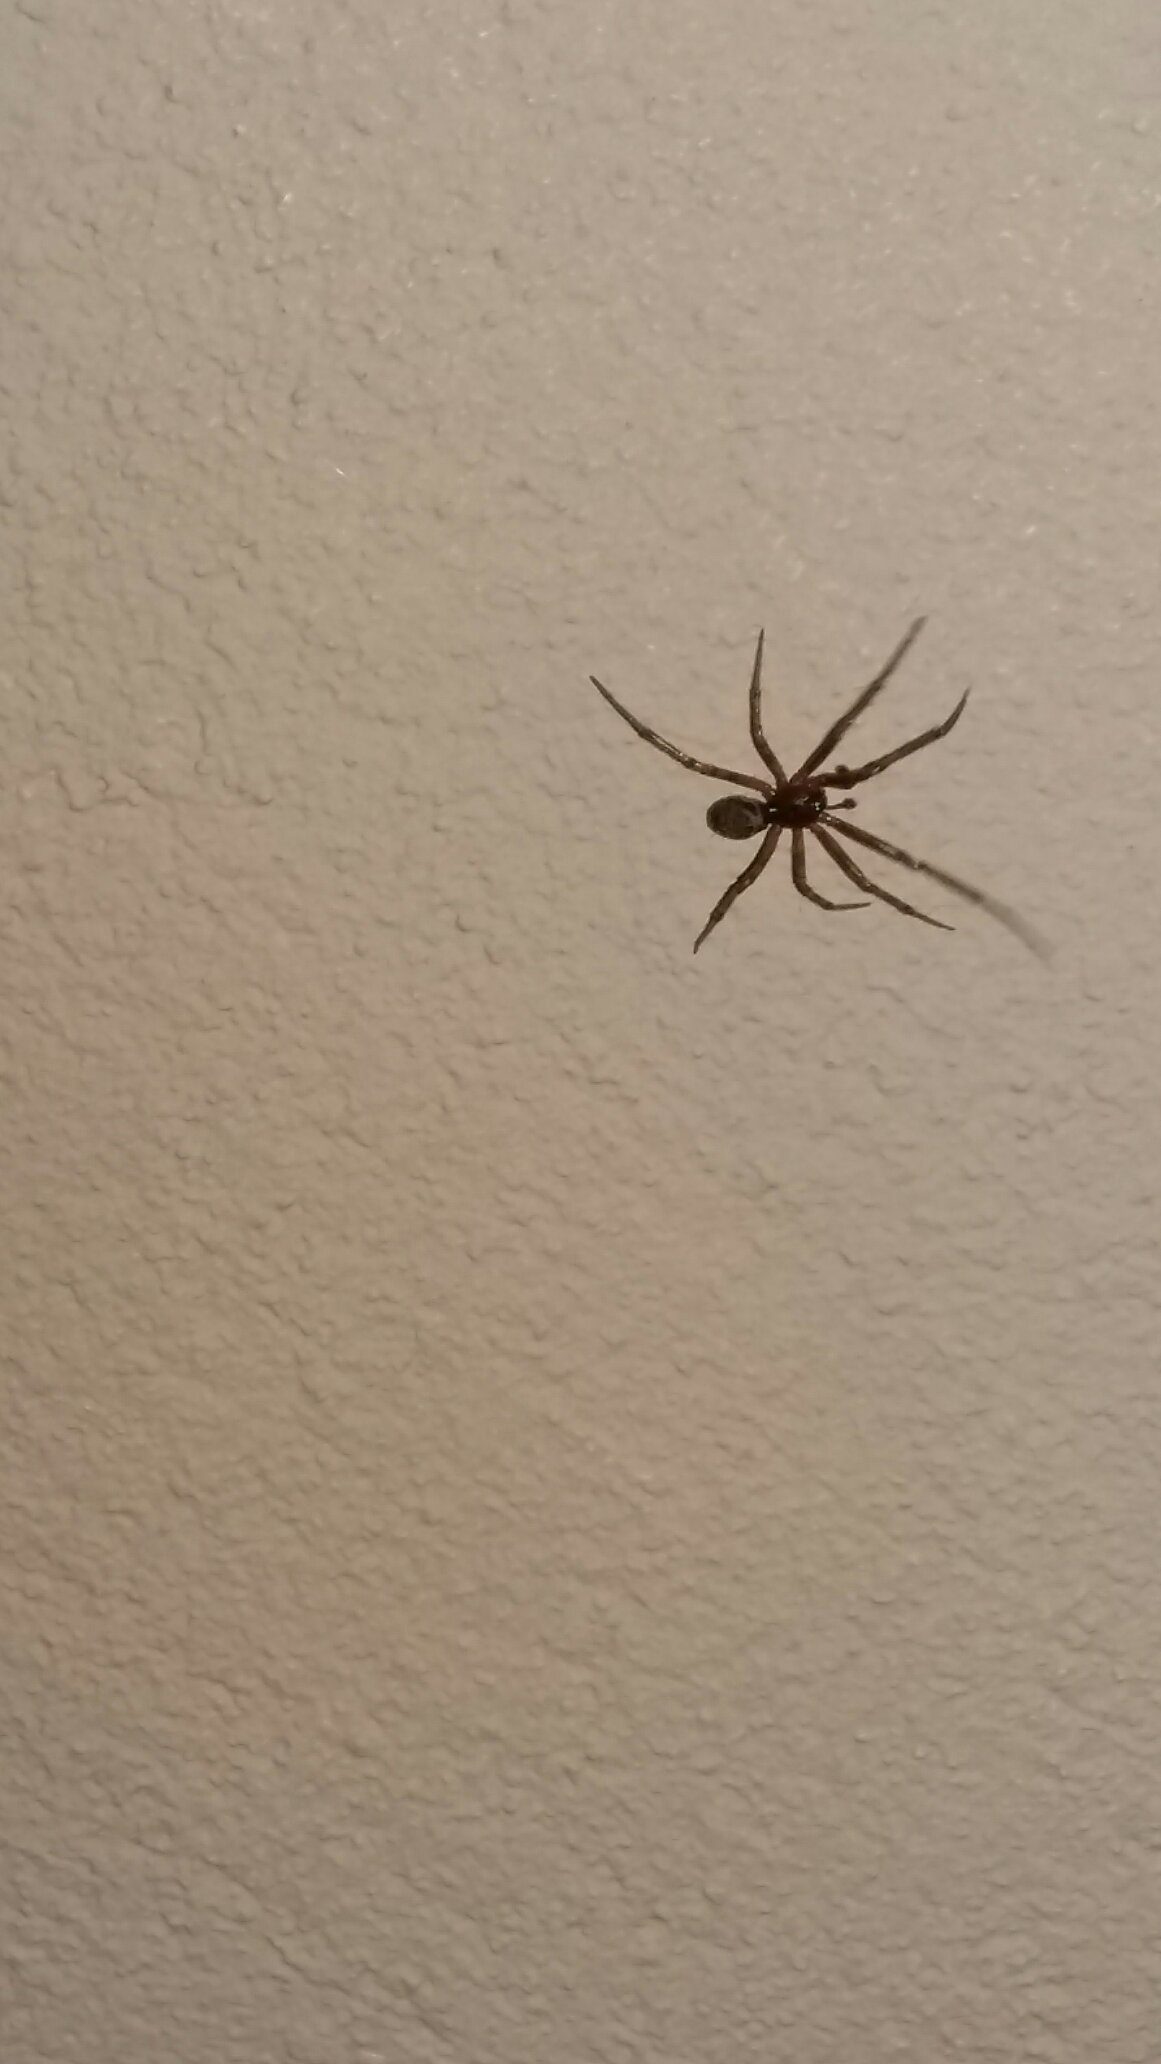spider: (580, 551, 1086, 1014)
